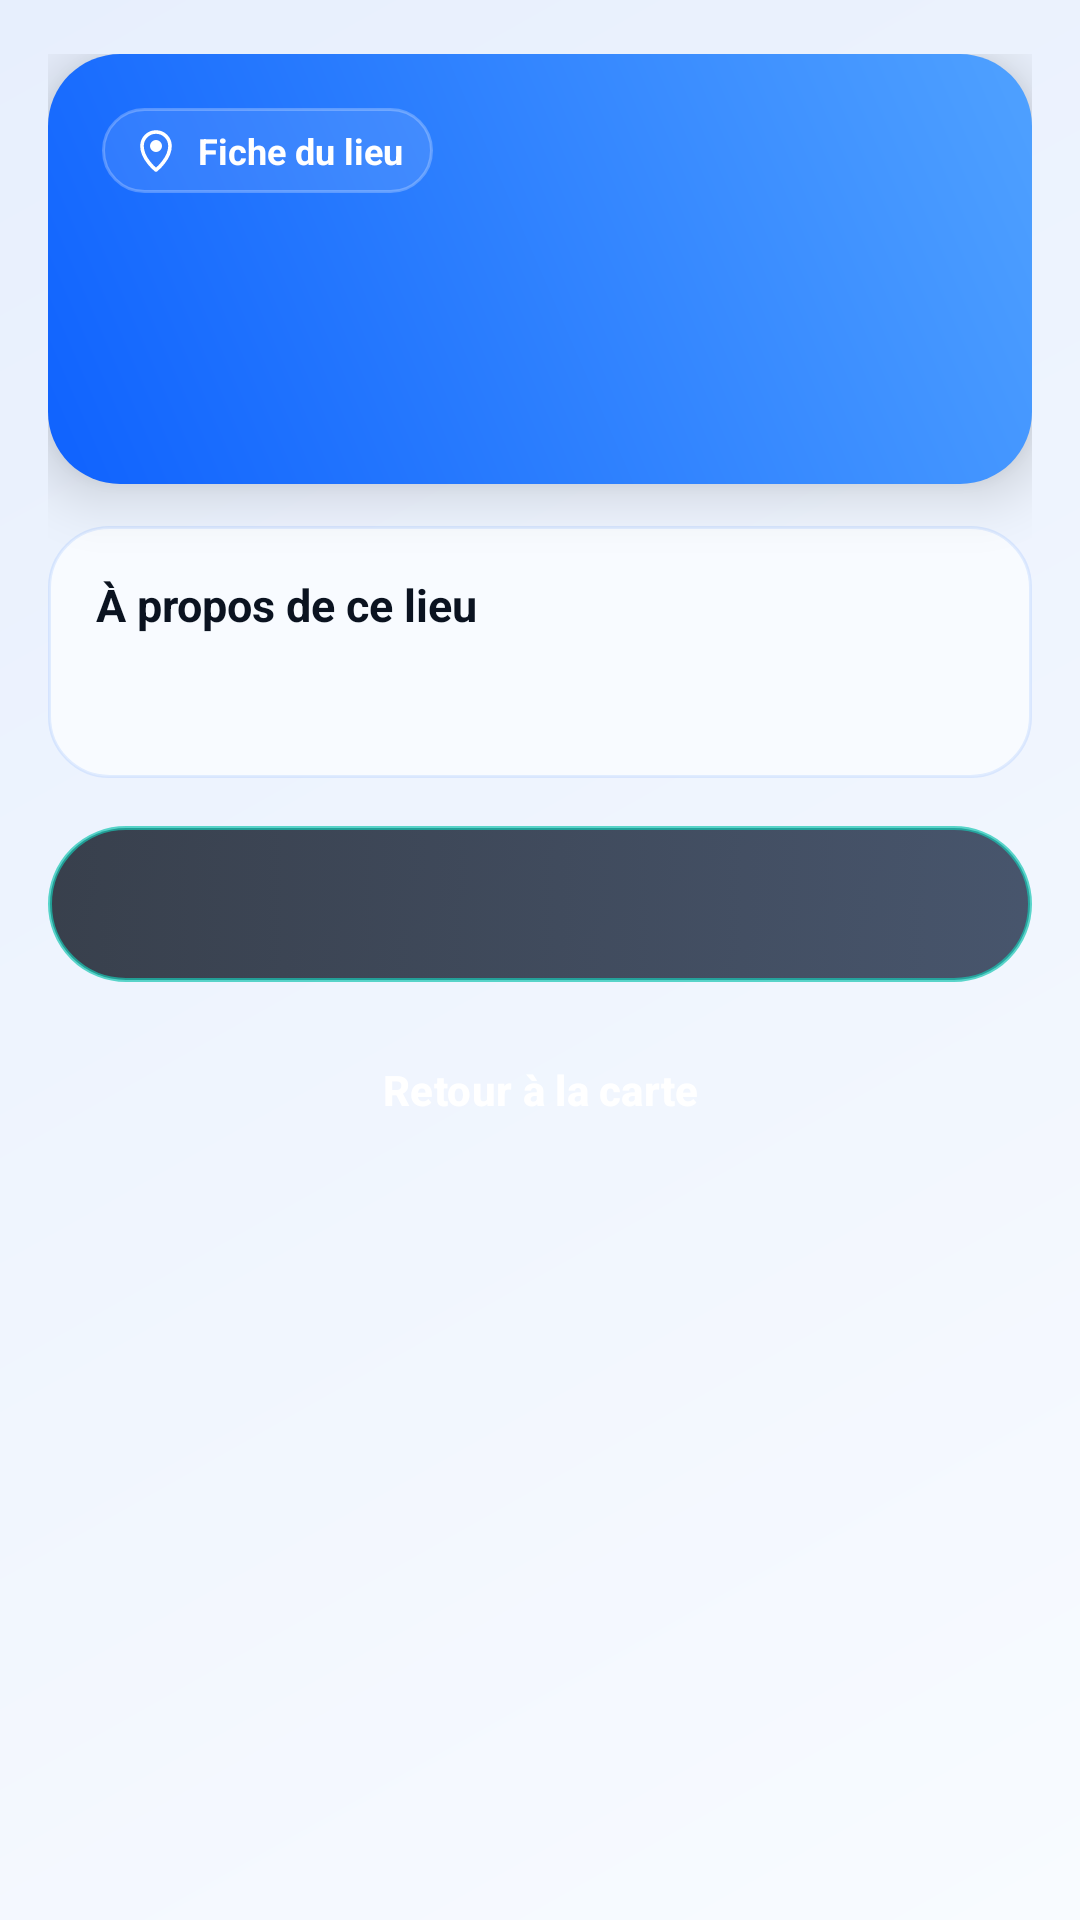

Icons on this 1080 x 1920 Android screen, each with the point to tap as (x,y):
pin line: (156,151)
